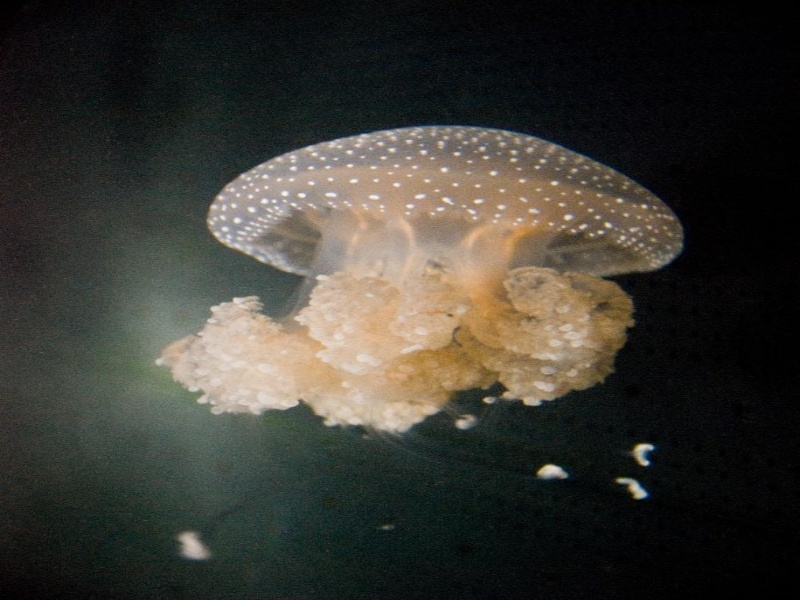Jellyfish: (148, 122, 688, 564)
